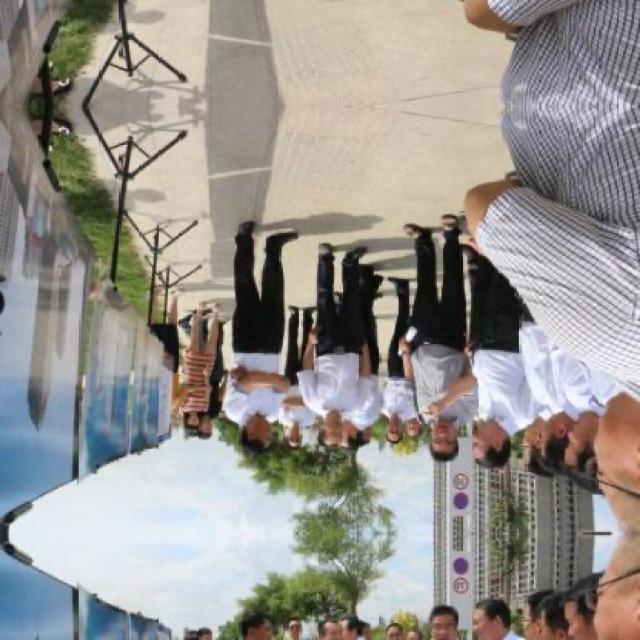sin casco: (598, 407, 640, 512), (563, 430, 609, 487), (463, 418, 507, 473), (311, 415, 370, 456), (514, 432, 562, 479), (240, 417, 284, 468), (414, 423, 471, 462)
